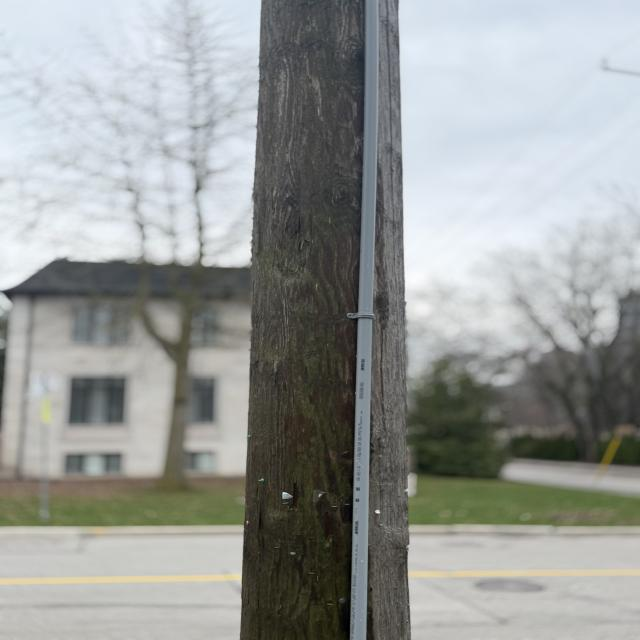Electrical Pole: (220, 26, 414, 640)
